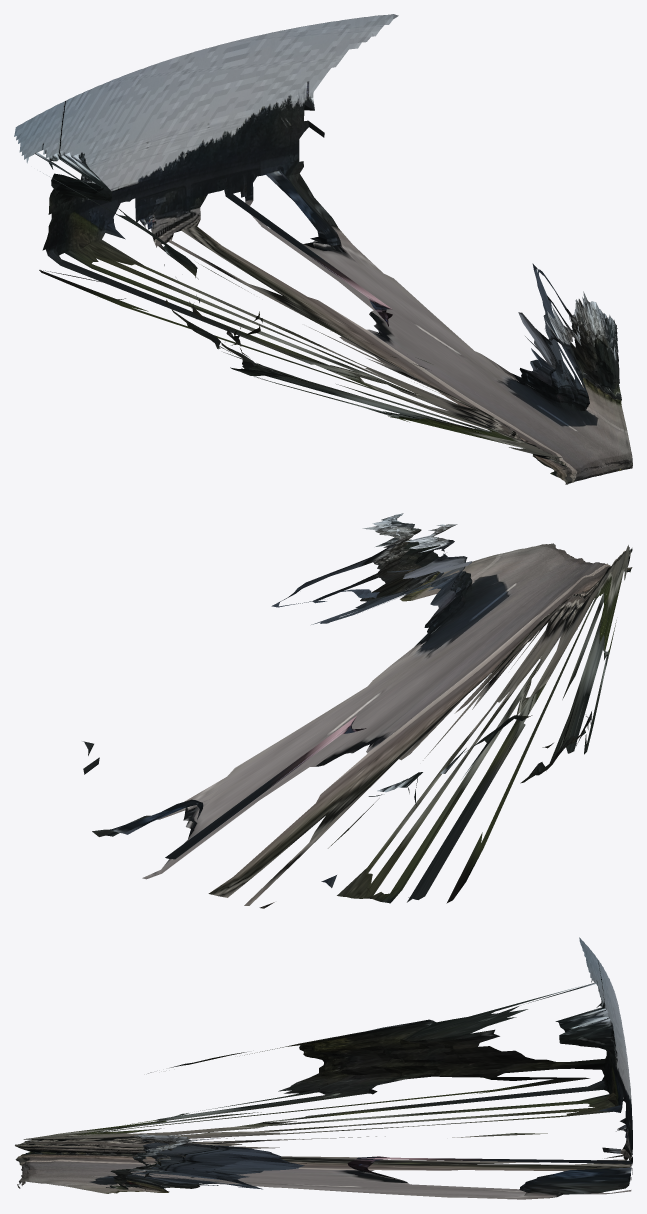
The picture shows the model from 3 angles, top to bottom: view 1: azimuth 30°, elevation 25°; view 2: azimuth 150°, elevation 25°; view 3: azimuth 270°, elevation 25°; orthographic projection. The views are drawn at different scales.
Parts seen in each view (by area): view 1: defaultobject; view 2: defaultobject; view 3: defaultobject.
Part boxes in pixels (left/top/right/bottom): defaultobject: left=14, top=14, right=632, bottom=484; defaultobject: left=82, top=513, right=632, bottom=908; defaultobject: left=15, top=937, right=632, bottom=1199.
Size of the model in its own units: 27.68 by 12.7 by 44.71.
Materials: 1 (1 with a texture image).
